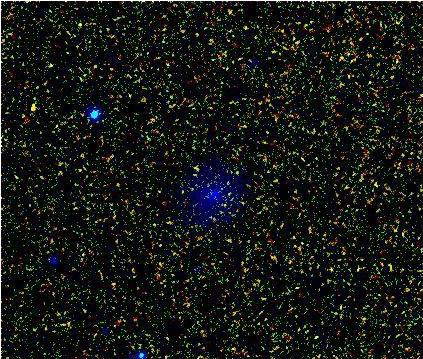star: (18, 92, 48, 122)
